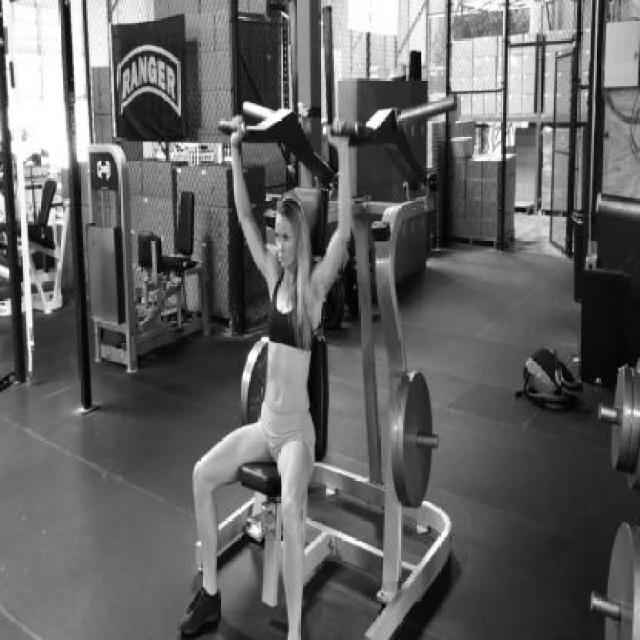shoulder press machine: (218, 98, 462, 640)
